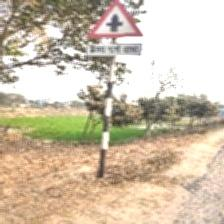Crossroad: (85, 0, 145, 60)
